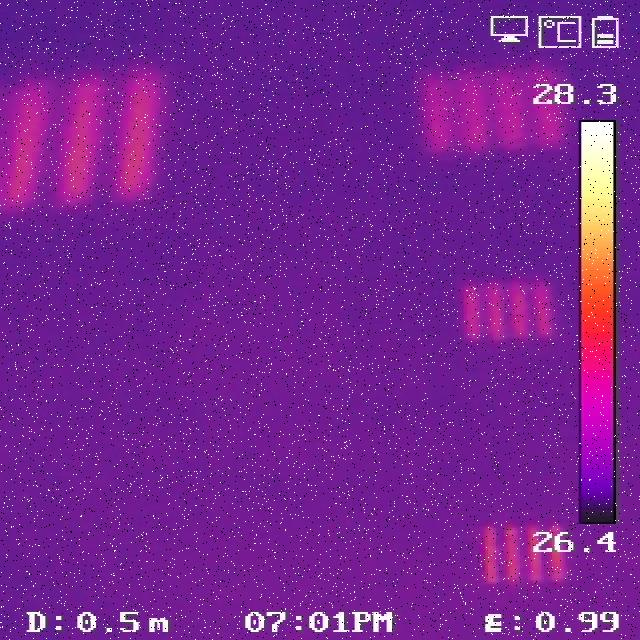Distinguishable 4-bar target: (5, 64, 159, 205), (464, 275, 556, 339), (480, 518, 568, 583)
threshold 4-bar target: (419, 64, 576, 147)
